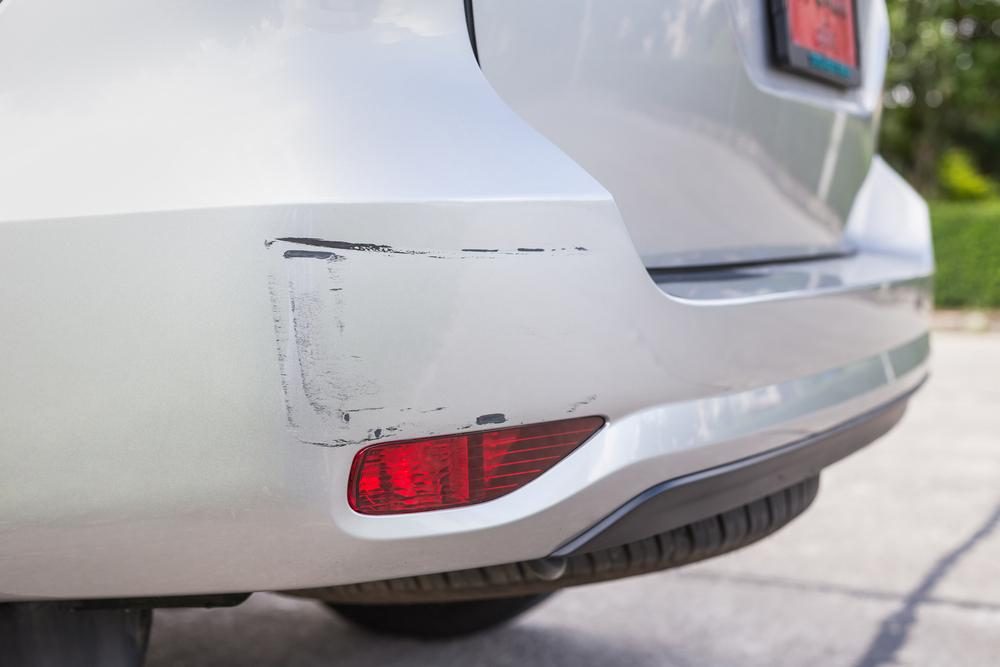scratch: (255, 233, 605, 450)
